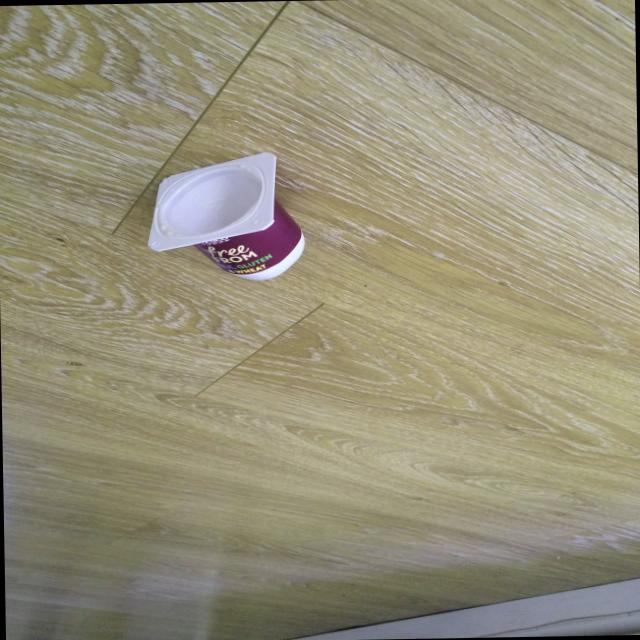less trash: (148, 152, 304, 280)
